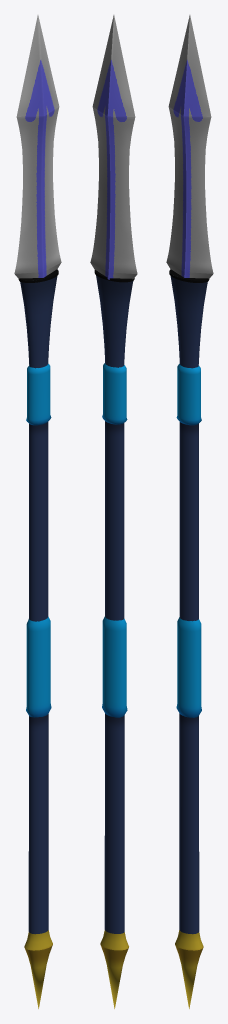
File: Spear01.fbx
3 views of the same model, side by side, from view 1: azimuth 30°, elevation 25°; view 2: azimuth 150°, elevation 25°; view 3: azimuth 330°, elevation 25° (orthographic).
Visible parts, largest first — view 1: shaft, spearhead, deco3, deco2, deco1; view 2: shaft, spearhead, deco3, deco2, deco1; view 3: shaft, spearhead, deco3, deco2, deco1.
Part boxes in pixels (x1,y1,x2,y2): shaft: (20,276,57,1008); spearhead: (14,15,61,278); deco3: (26,617,51,717); deco2: (26,364,51,425); deco1: (18,269,58,282); shaft: (96,275,133,1008); spearhead: (90,15,137,279); deco3: (102,616,127,717); deco2: (102,363,127,424); deco1: (94,270,134,282); shaft: (170,276,207,1008); spearhead: (166,15,213,278); deco3: (176,617,201,717); deco2: (176,364,201,425); deco1: (169,269,209,282).
Size of the model in its own units: 8.49 by 171 by 4.09.
